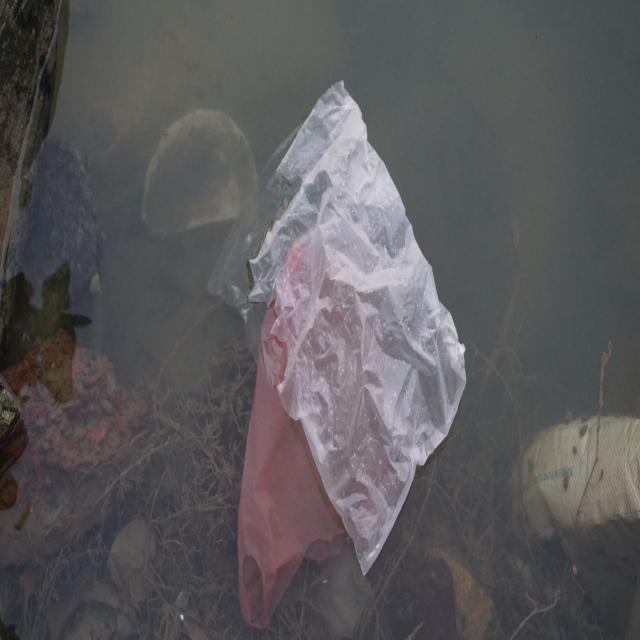Kantong Plastik: (213, 79, 470, 569), (232, 242, 385, 628)
